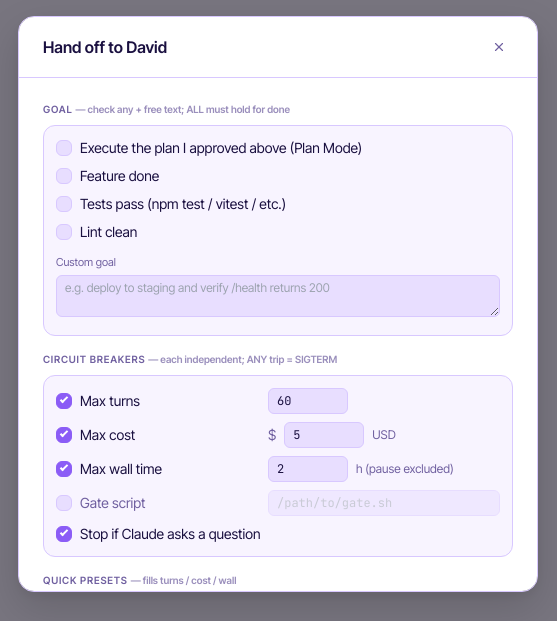
Test: HandoffModal (v2.2.0) › unchecking cost breaker omits maxCostUsd from payload
The image size is (557, 621).
Step 1. Type "x" into the text box with placeholder "e.g. deploy to staging and verify /health returns 200" → coordinates (278, 296), box [56,274,500,316]
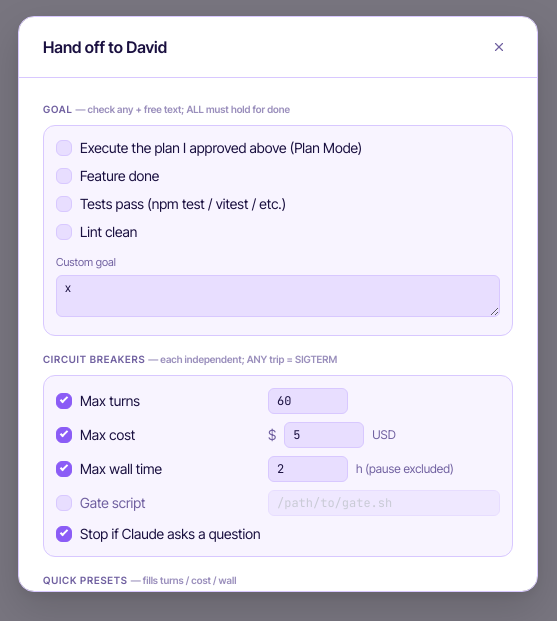
# Find checkbox in the Max cost row — locate by label
Step 2. Click the checkbox labelled "Max cost $ USD" → coordinates (64, 434), box [56,426,72,442]
(page scrolled)
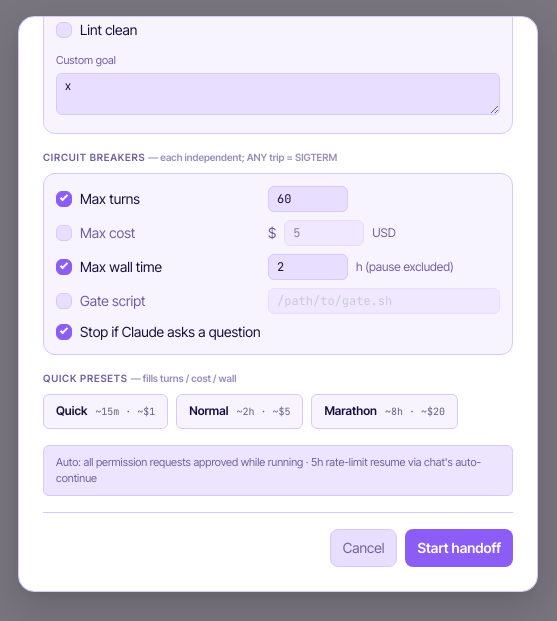
Step 3. Click the button "Start handoff" → coordinates (459, 548), box [406,528,513,566]
(page scrolled)
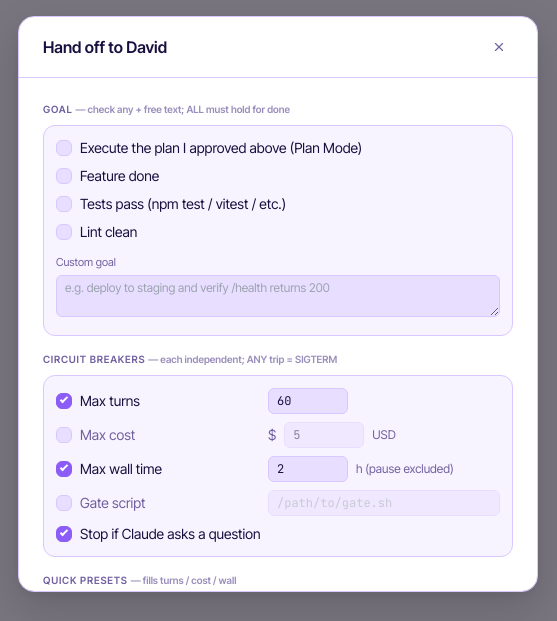
Result: the checkbox labelled "Execute the plan I approved above (Plan Mode)" is shown at [56,140,72,156]
